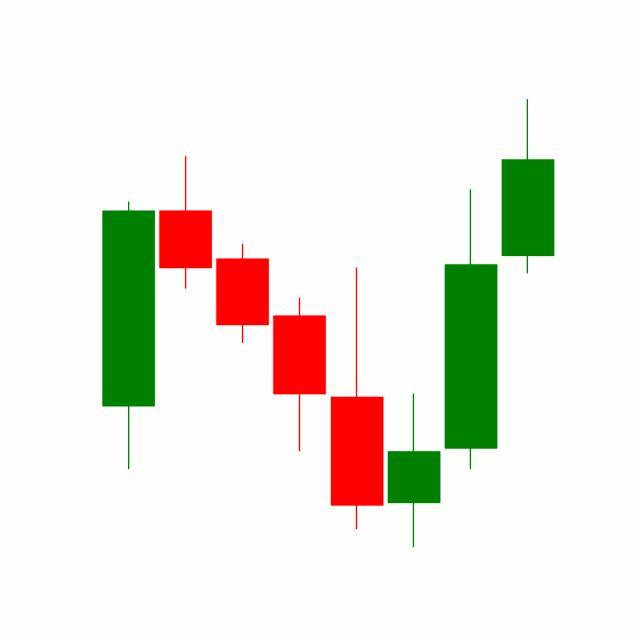Three Inside Up-Down: (328, 185, 500, 549)
